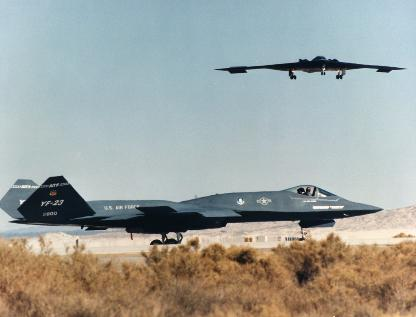B1: (214, 55, 408, 79)
US2: (0, 175, 386, 244)
